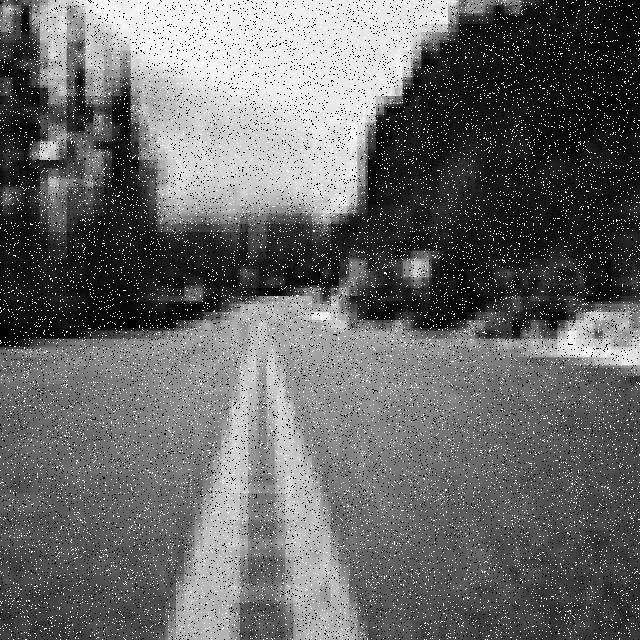clear-road: (0, 303, 640, 640)
